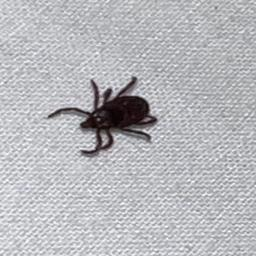Rhipicephalus sanguineus: (46, 76, 158, 156)
